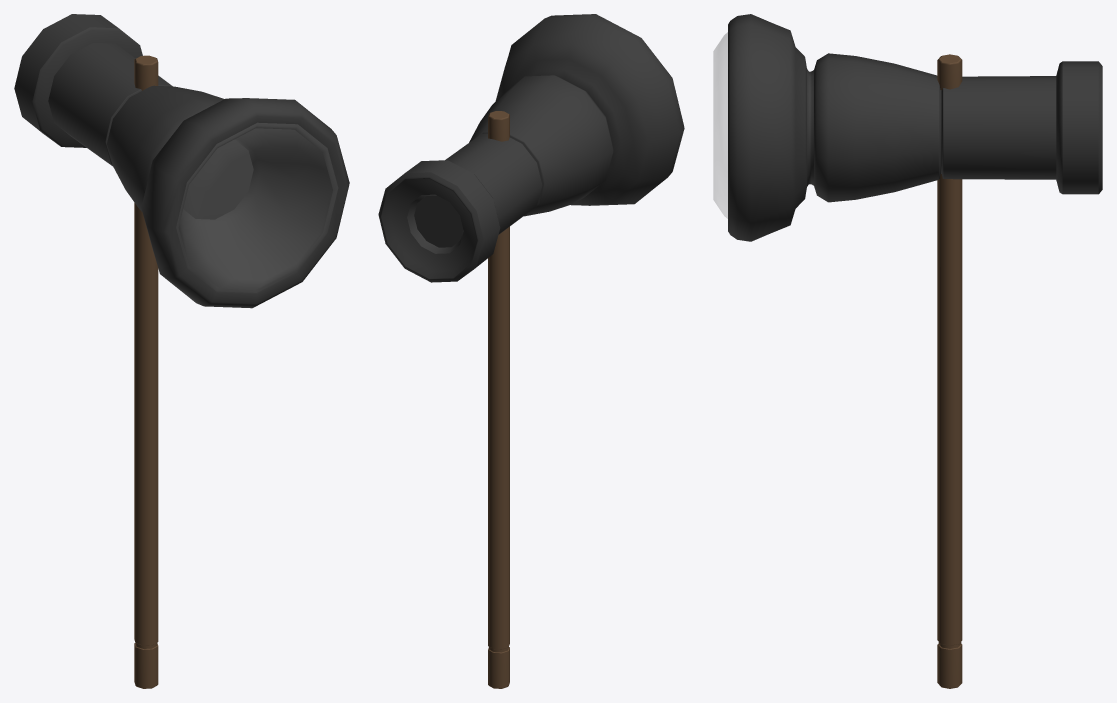
The model's file is Hammer.fbx.
3 views of the same model, side by side, from view 1: azimuth 30°, elevation 25°; view 2: azimuth 150°, elevation 25°; view 3: azimuth 270°, elevation 25° (orthographic). The views are drawn at different scales.
Parts seen in each view (by area): view 1: Hammer, Lens, Stick; view 2: Hammer, Stick; view 3: Hammer, Stick, Lens.
Boxes of the visible parts, bbox=[...] form: Hammer: bbox=[14, 14, 349, 308]; Lens: bbox=[177, 123, 337, 292]; Stick: bbox=[134, 55, 158, 688]; Hammer: bbox=[378, 14, 684, 282]; Stick: bbox=[488, 111, 509, 688]; Hammer: bbox=[728, 14, 1102, 241]; Stick: bbox=[937, 54, 962, 688]; Lens: bbox=[713, 32, 727, 218].
Size of the model in its own units: 4.88 by 15.54 by 8.32.
